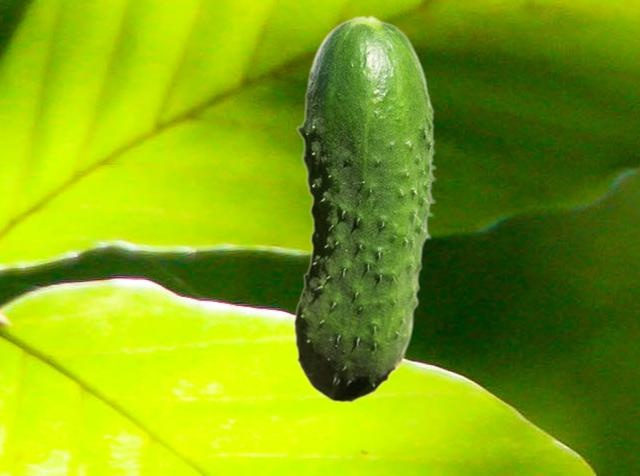cucumber: (293, 14, 436, 402)
